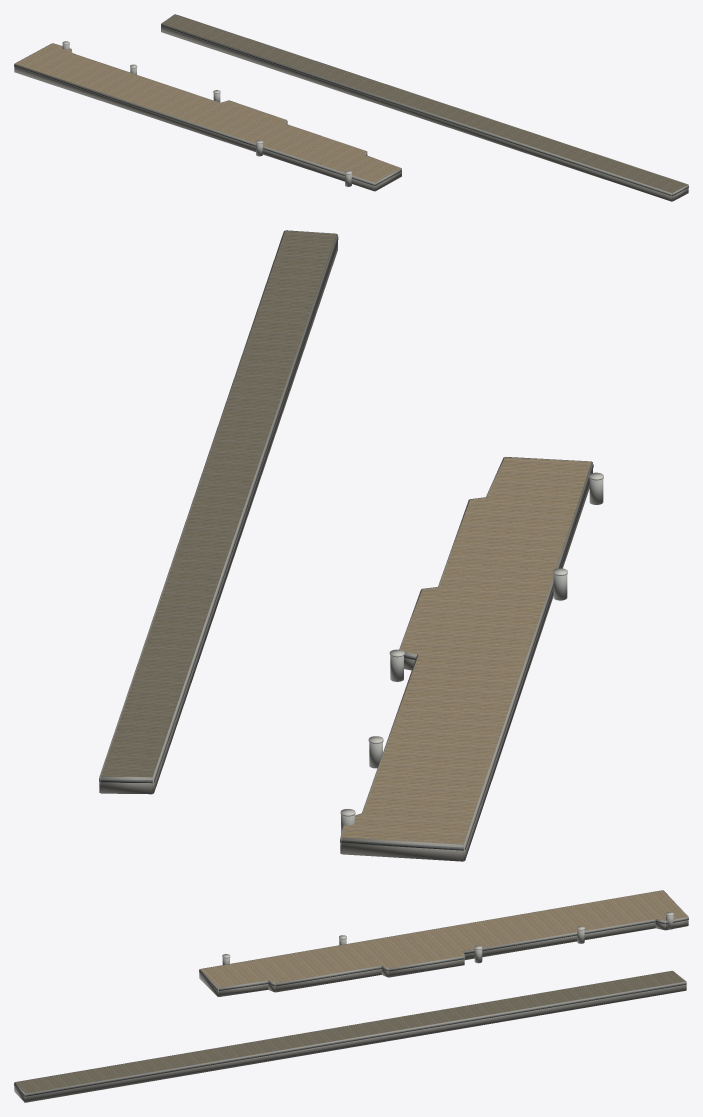
The picture shows the model from 3 angles, top to bottom: view 1: azimuth 30°, elevation 25°; view 2: azimuth 150°, elevation 25°; view 3: azimuth 270°, elevation 25°; orthographic projection. The views are drawn at different scales.
Visible parts, largest first — view 1: Pontoon decking, Landing edges and guides; view 2: Pontoon decking, Landing edges and guides; view 3: Pontoon decking, Landing edges and guides.
Part boxes in pixels (bbox=[...]): Pontoon decking: bbox=[15, 14, 687, 192]; Landing edges and guides: bbox=[14, 14, 688, 201]; Pontoon decking: bbox=[101, 230, 591, 844]; Landing edges and guides: bbox=[99, 230, 603, 861]; Pontoon decking: bbox=[15, 890, 687, 1093]; Landing edges and guides: bbox=[14, 890, 688, 1102].
Bounding box in the file's own units: 40.75 × 1.38 × 57.02.
Materials: 2 (1 with a texture image).
